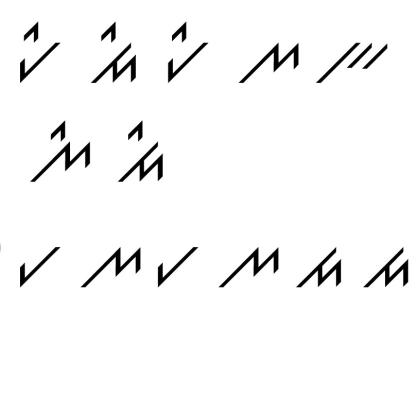da: (358, 242, 412, 297), (292, 240, 348, 292)
di: (87, 20, 142, 94), (113, 117, 170, 185)
na: (228, 32, 302, 92), (76, 240, 147, 298), (212, 242, 286, 296)
ni: (24, 115, 94, 186)
pa: (152, 243, 206, 293), (15, 241, 66, 292)
pi: (10, 16, 65, 86), (158, 18, 210, 83)
